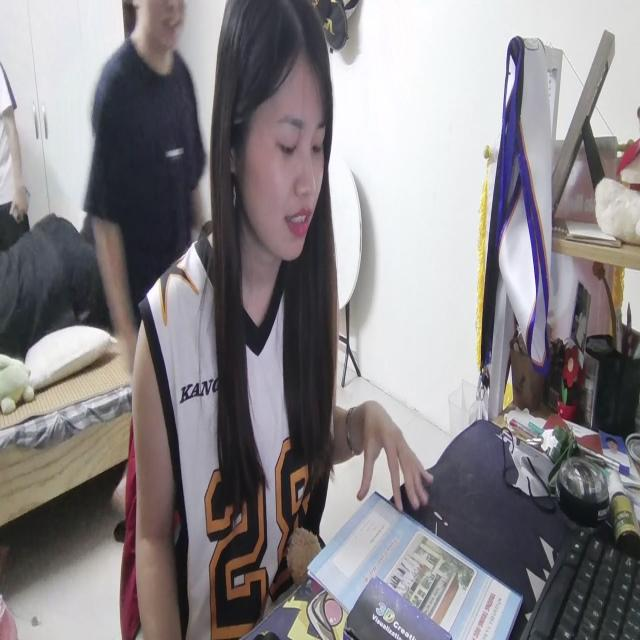book: (309, 486, 523, 640)
extra_person: (86, 0, 209, 335)
student: (130, 0, 433, 640)
